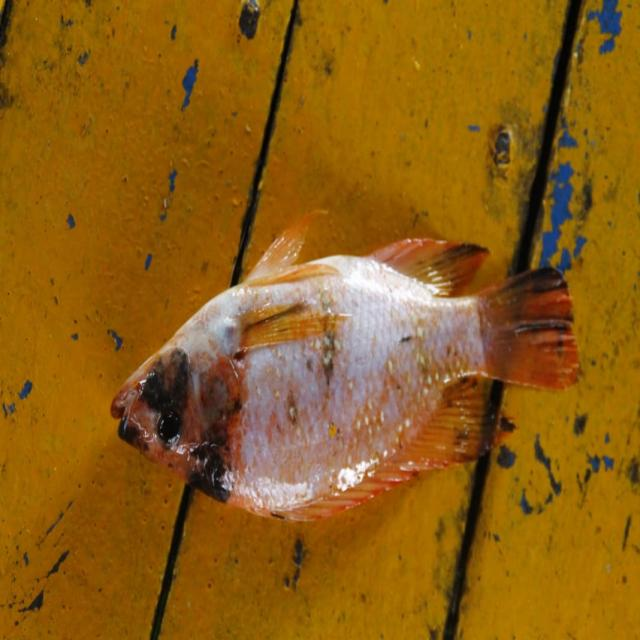ikan: (109, 212, 580, 523)
